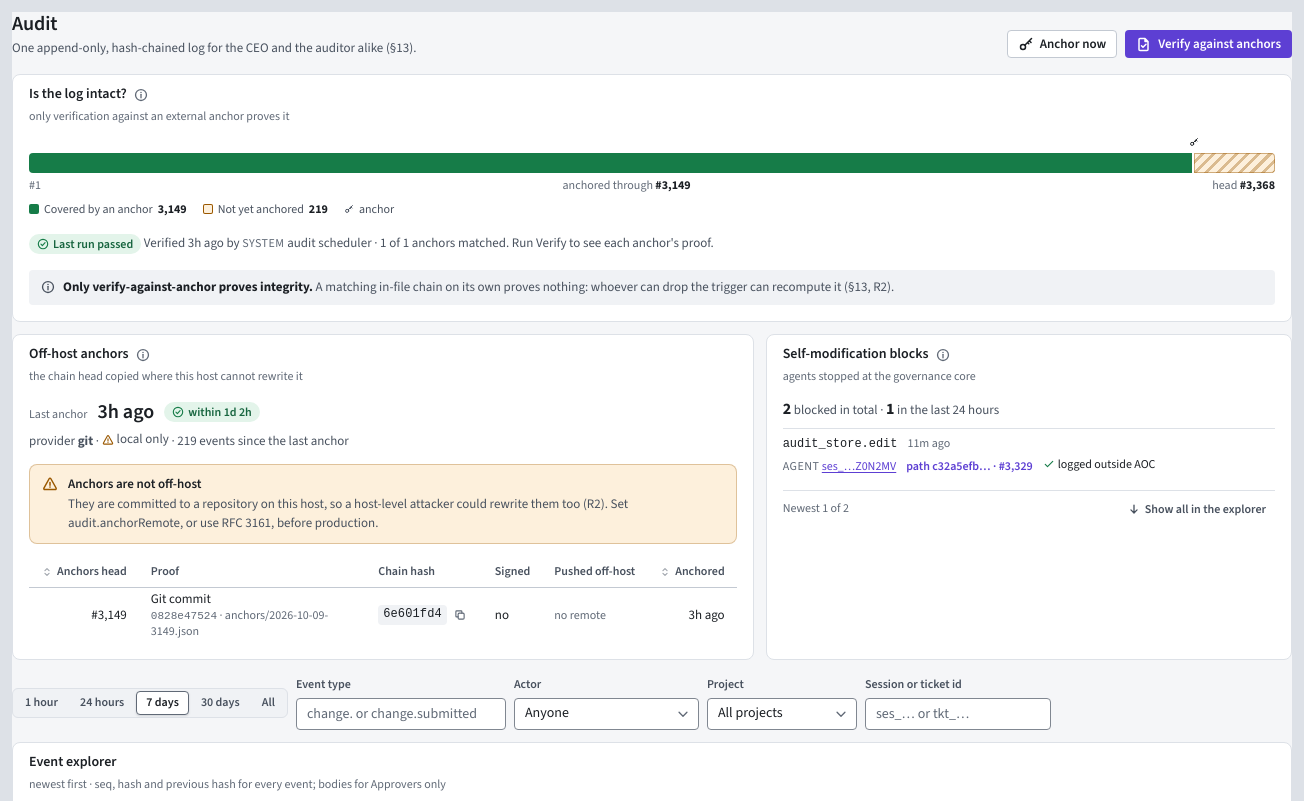
Audit › anchors the chain head on request
Click the button "Anchor now" at (1062, 44), box [1007, 30, 1117, 58]
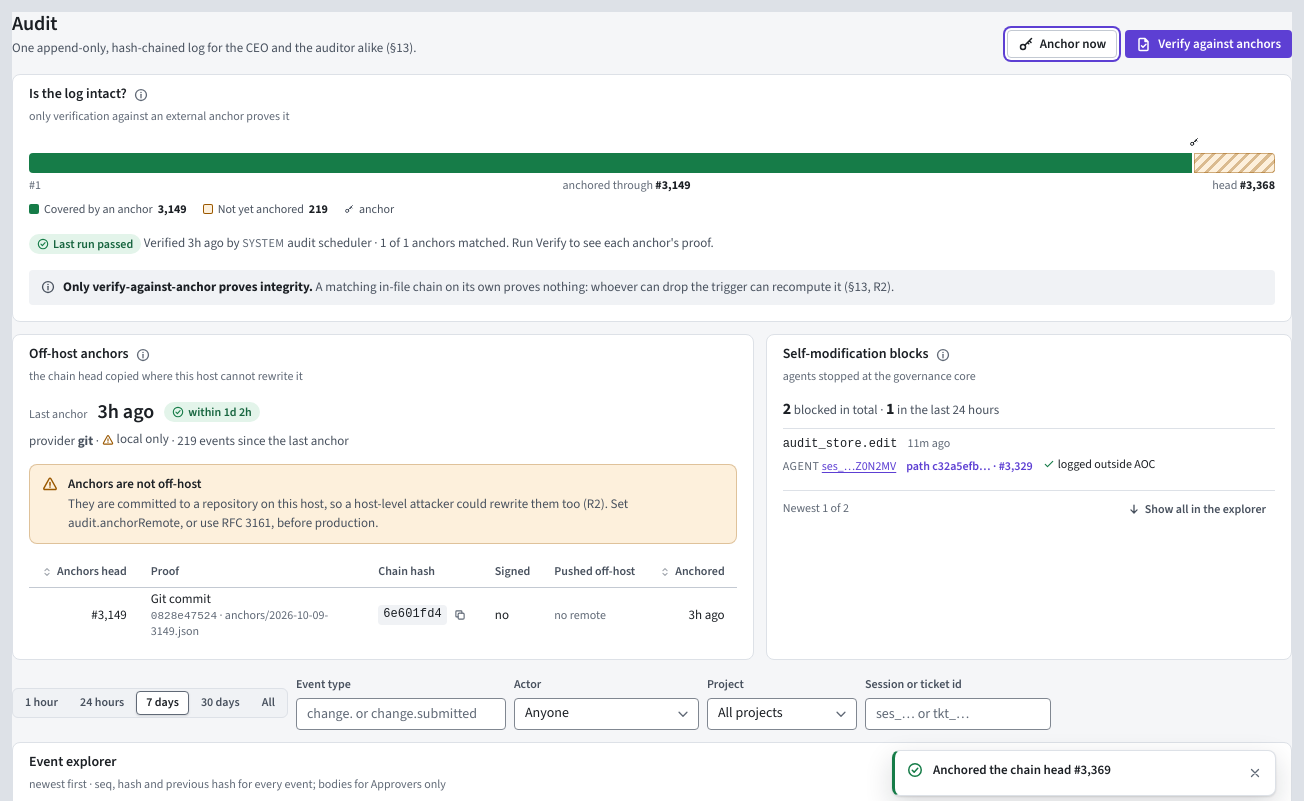
Expected: the text "Anchored the chain head #3,369" is shown, [932, 760, 1111, 778]
